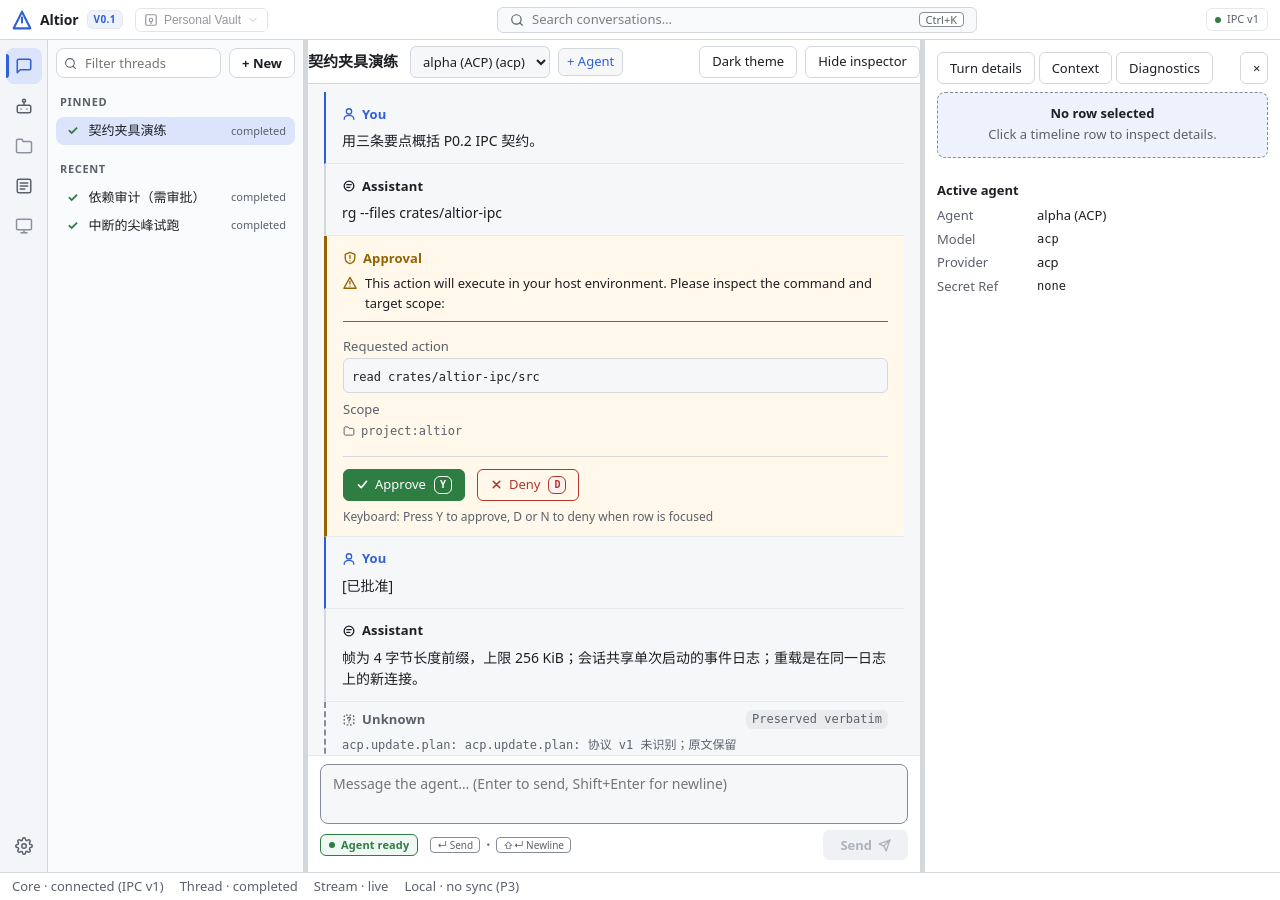
App workbench shell › an empty search result never unmounts the conversation being read (A03)
The image size is (1280, 900).
Check: the heading "契约夹具演练" is shown, box [308,50,398,73]
In the search field with test id "thread-filter": (139,63) [56,48,221,78], type "zzz-no-such-thread"
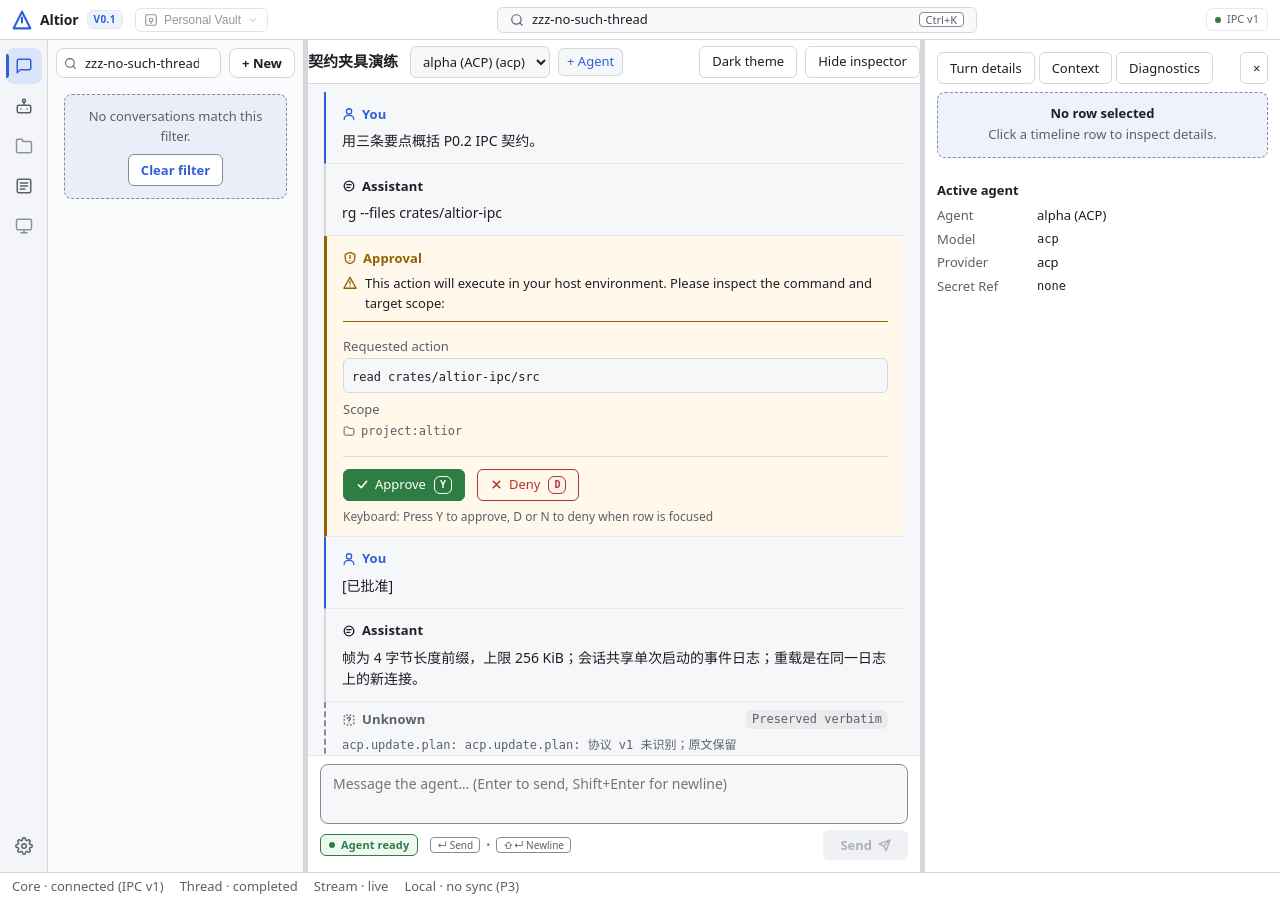
Check: the heading "契约夹具演练" is shown, box [308,50,398,73]
Check: the message with test id "threads-search-empty" shows "No conversations match", box [89,107,262,144]
Check: the button with test id "clear-thread-filter" is shown, box [128,154,223,186]
